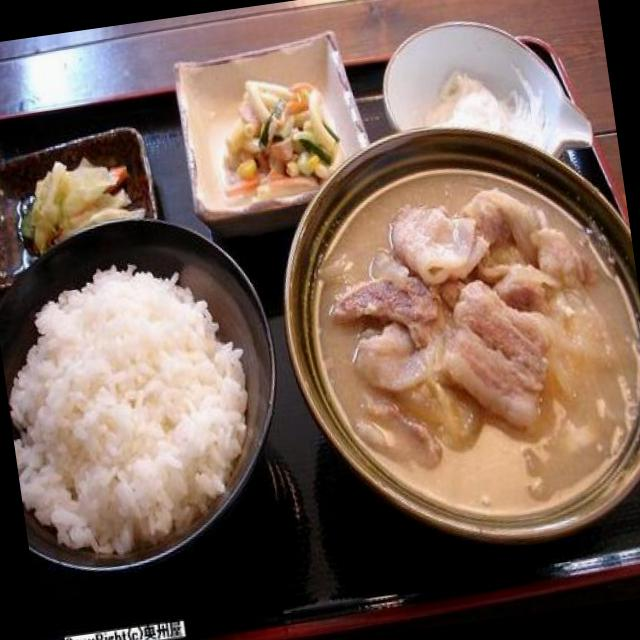Rice: (0, 246, 275, 573)
